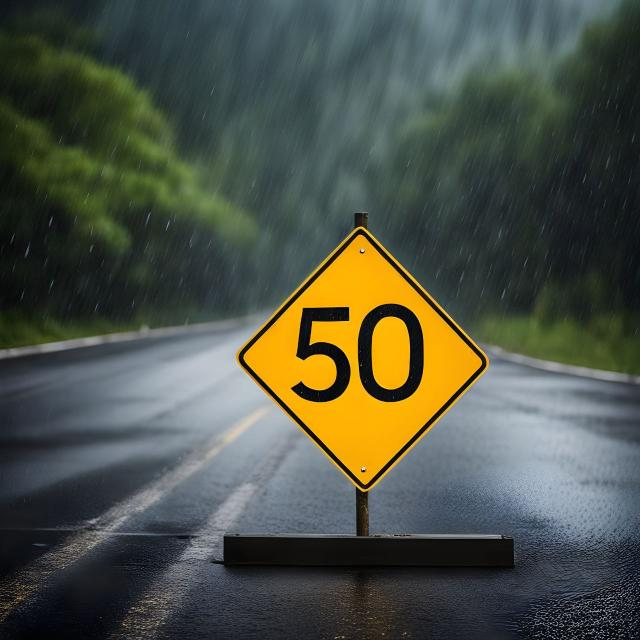speed_limit_50: (236, 222, 488, 494)
